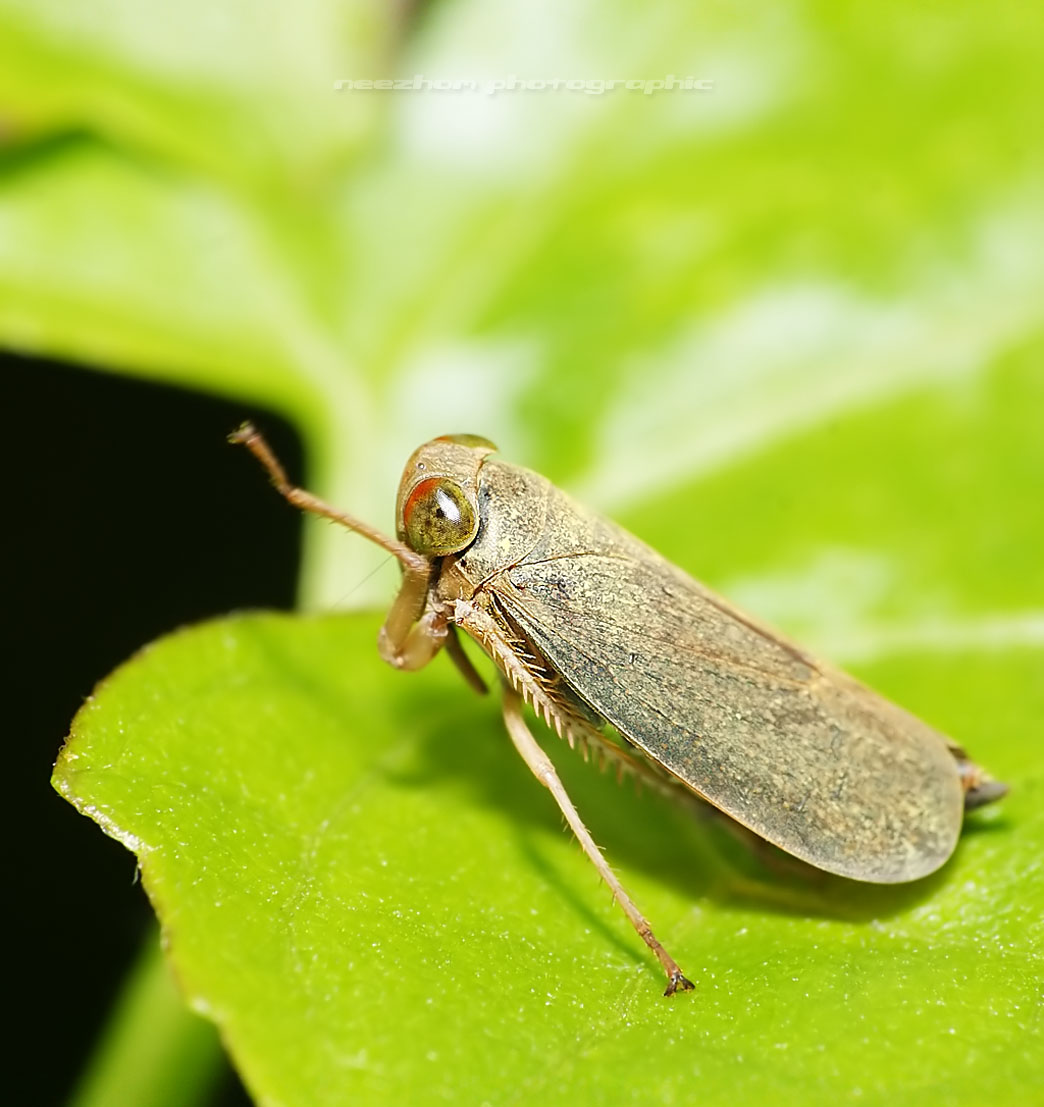Brown_hopper: (230, 375, 1019, 931)
